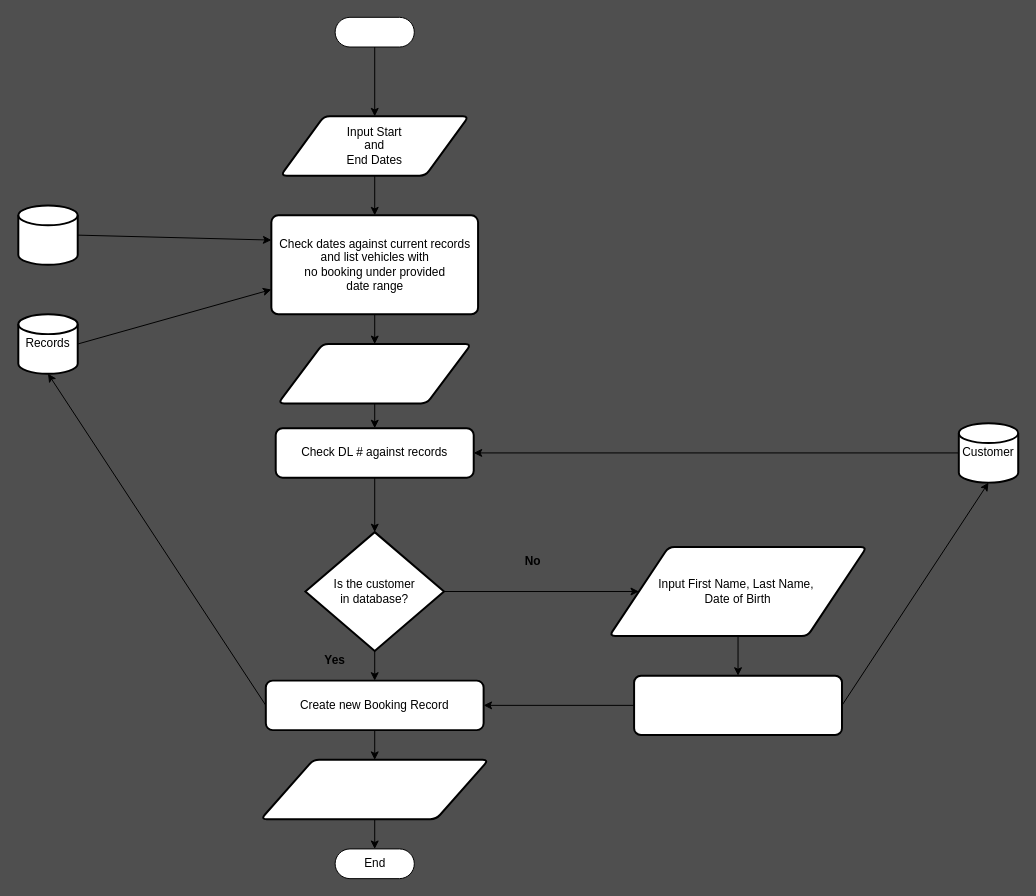
This 1036x896 diagram has some shape labels left out. The shapes that lost their labels are listed below. From the top down, each one's centre as x and y in pixels, then its label:
At (x=374, y=31): "New Booking".
At (x=47, y=234): "Vehicles".
At (x=374, y=373): "Input Vehicle choice and Drivers Licence #".
At (x=737, y=705): "Create New Customer Record".
At (x=374, y=789): "Output Booking Reference".
